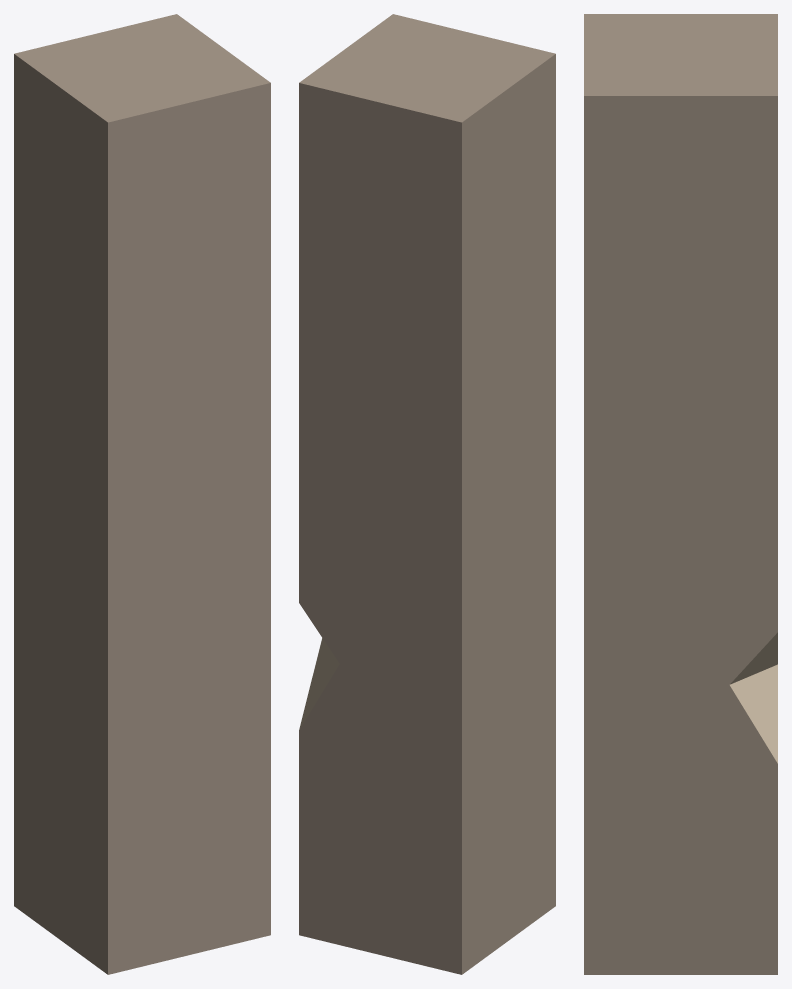
Rendered from Stucco_Prop_Support_Pillar_3.glb.
The picture shows the model from 3 angles, left to right: view 1: azimuth 30°, elevation 25°; view 2: azimuth 150°, elevation 25°; view 3: azimuth 270°, elevation 25°; orthographic projection. The views are drawn at different scales.
Visible parts, largest first — view 1: object1; view 2: object1; view 3: object1.
Boxes of the visible parts, <box> form: object1: <box>14,14,270,974</box>; object1: <box>299,14,555,974</box>; object1: <box>584,14,777,974</box>.
Bounding box in the file's own units: 0.2 × 1 × 0.2.
